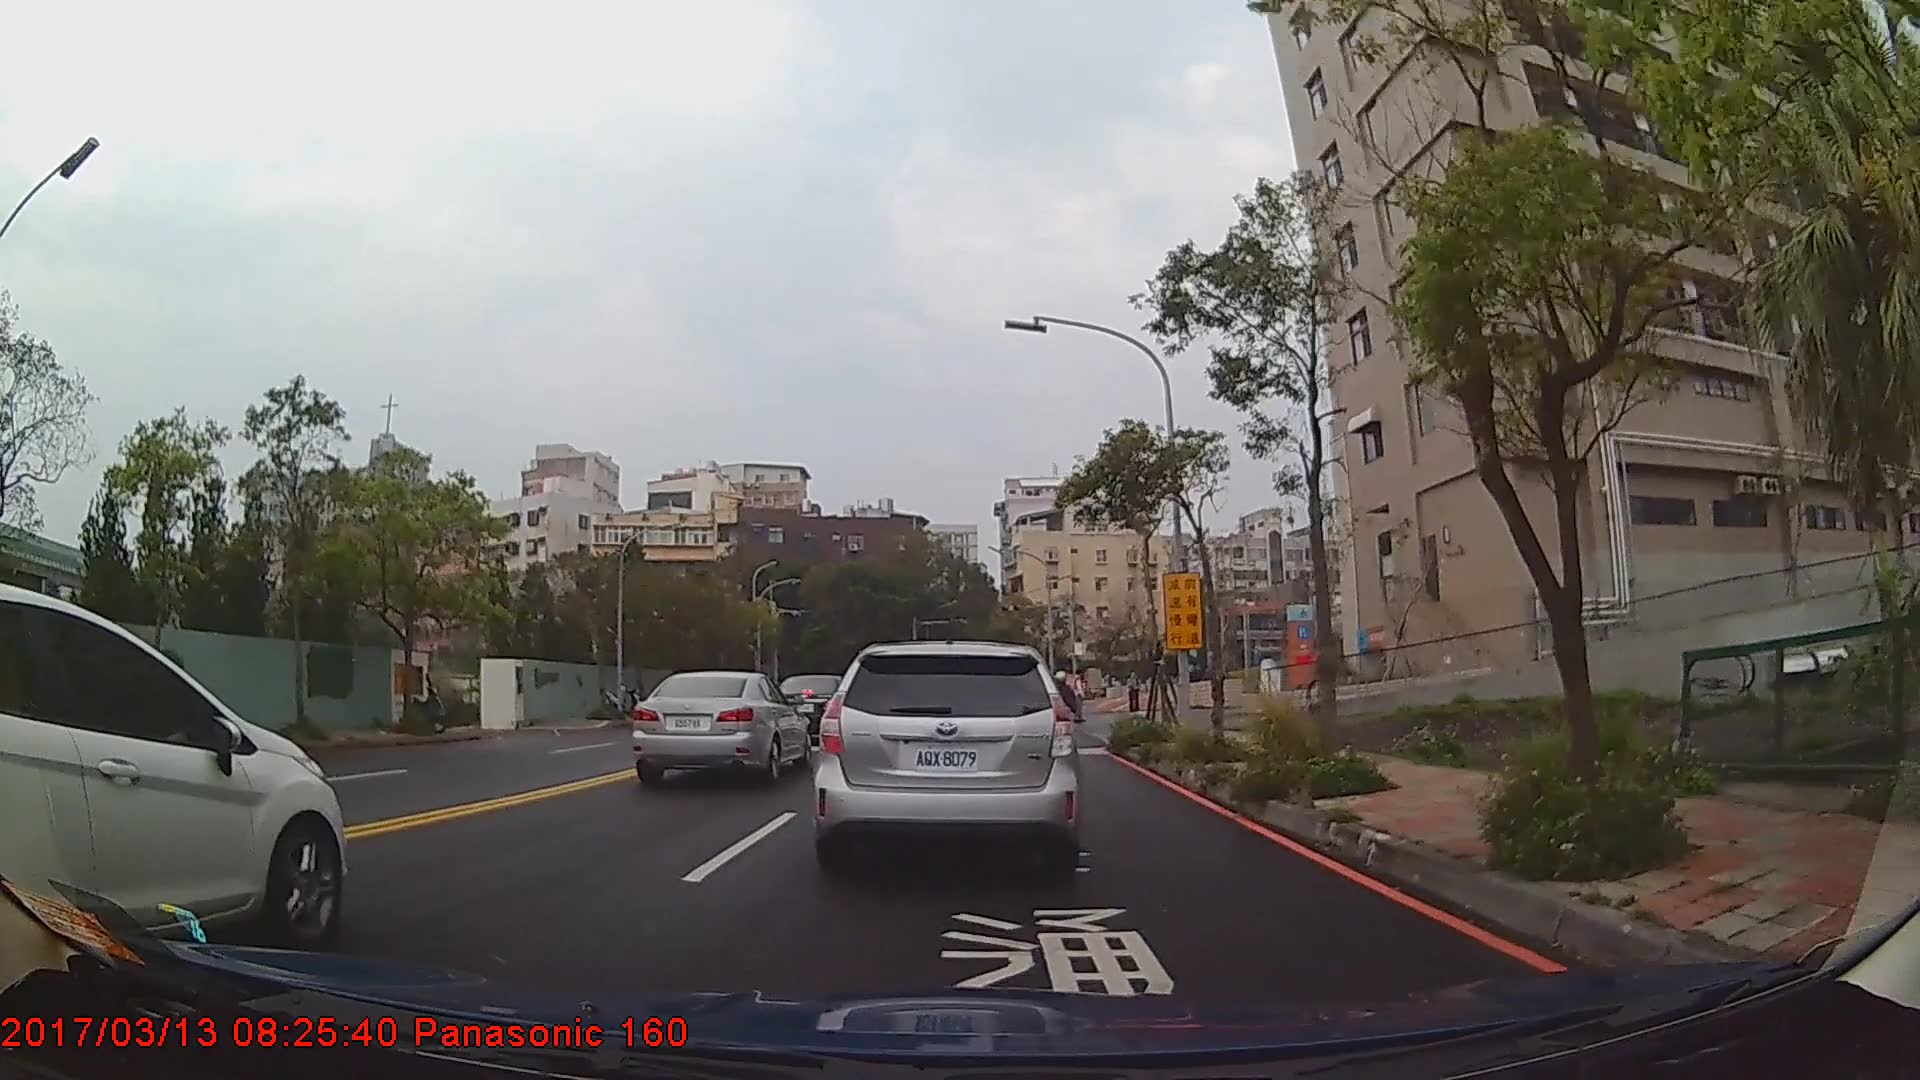vehicle: (0, 579, 348, 952), (815, 640, 1079, 872), (630, 671, 812, 789), (771, 674, 858, 740)
